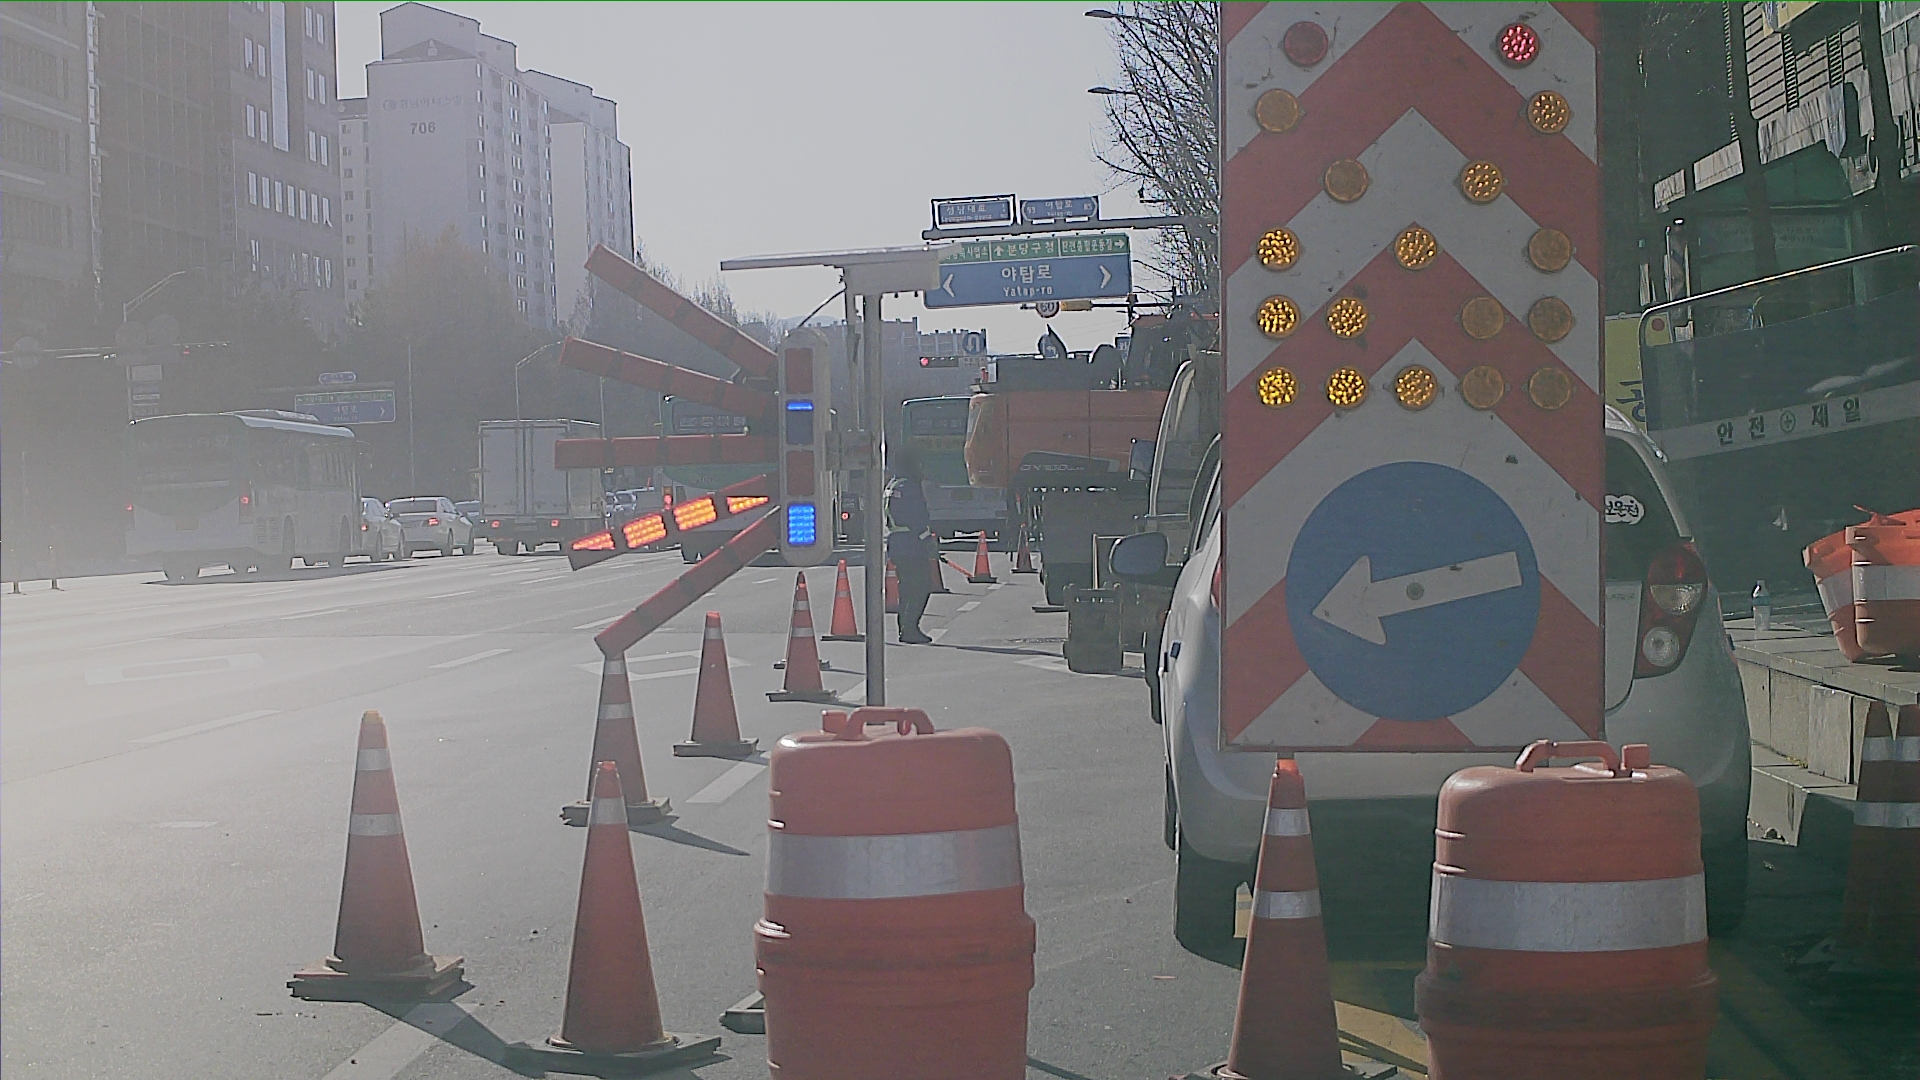trafficLight: (918, 353, 952, 367)
trafficSignCircle: (1033, 298, 1062, 322), (957, 331, 986, 355)
trafficSignRTG: (1216, 1, 1604, 758)
